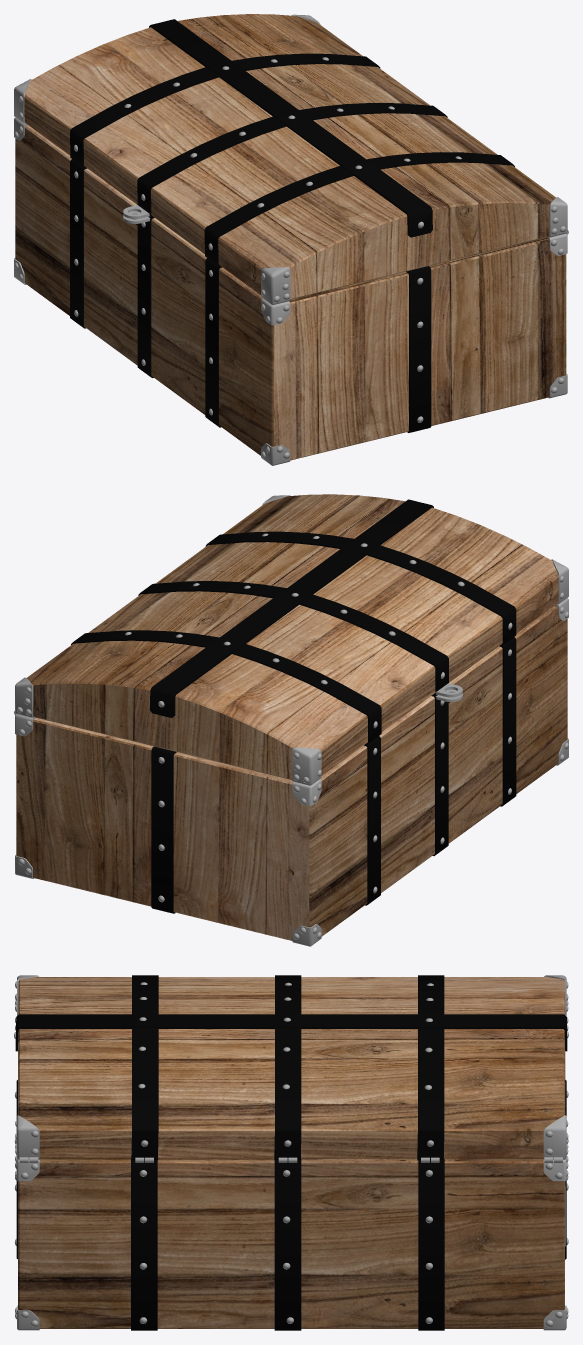
The model's file is chest.fbx.
The picture shows the model from 3 angles, top to bottom: view 1: azimuth 30°, elevation 25°; view 2: azimuth 150°, elevation 25°; view 3: azimuth 270°, elevation 25°; orthographic projection. The views are drawn at different scales.
Visible parts, largest first — view 1: chest01:GeoSphere0100; view 2: chest01:GeoSphere0100; view 3: chest01:GeoSphere0100.
Part boxes in pixels (x1,y1,x2,y2): chest01:GeoSphere0100: (14, 14, 568, 465); chest01:GeoSphere0100: (14, 494, 568, 946); chest01:GeoSphere0100: (14, 975, 568, 1330).
Size of the model in its own units: 20.25 by 13.54 by 28.85.
